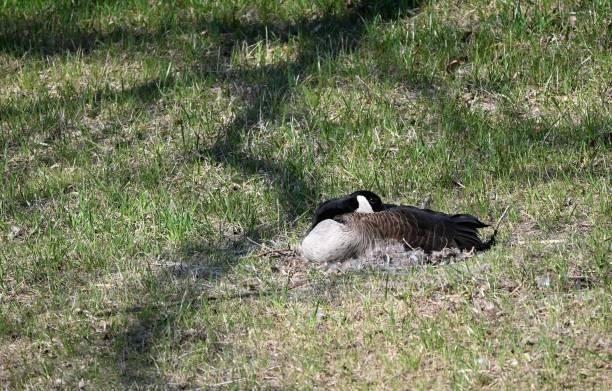Canadian-Goose: (299, 190, 489, 268)
